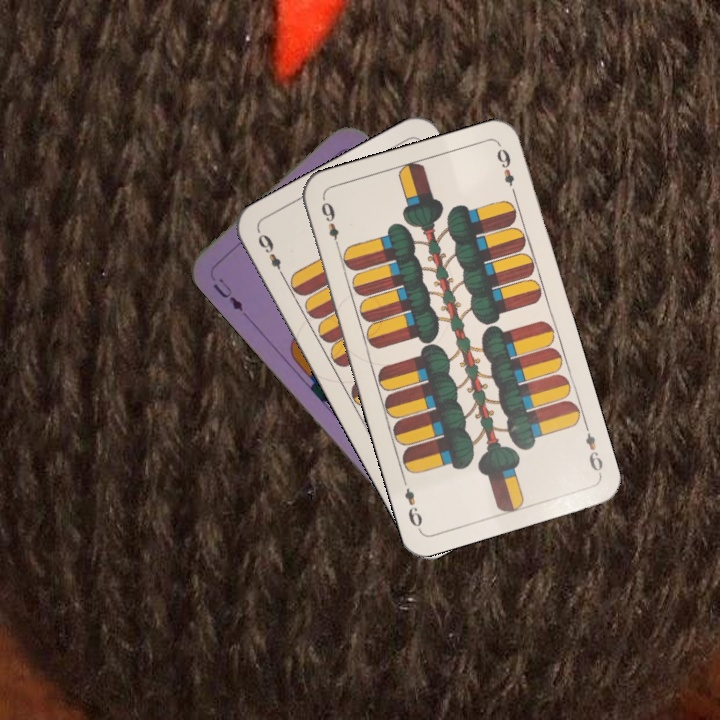E9: (254, 229, 288, 282), (317, 195, 343, 253), (580, 420, 606, 478)
EU: (208, 274, 246, 314)
